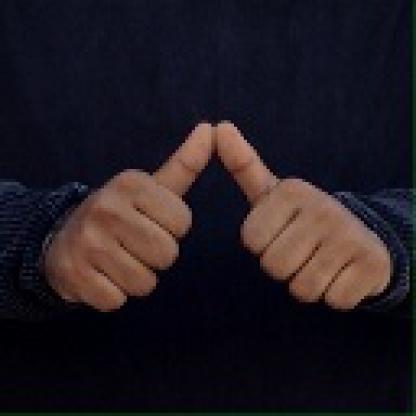A: (53, 112, 392, 314)
